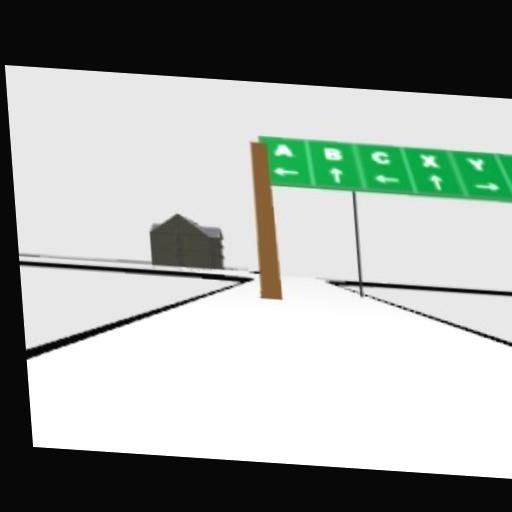A: (273, 143, 293, 158)
B: (323, 146, 342, 161)
C: (371, 149, 391, 164)
Left: (271, 167, 300, 178), (372, 174, 401, 184)
Right: (474, 180, 499, 191)
Straight: (428, 172, 443, 191), (328, 167, 343, 184)
X: (419, 152, 438, 168)
Y: (466, 157, 486, 171)
